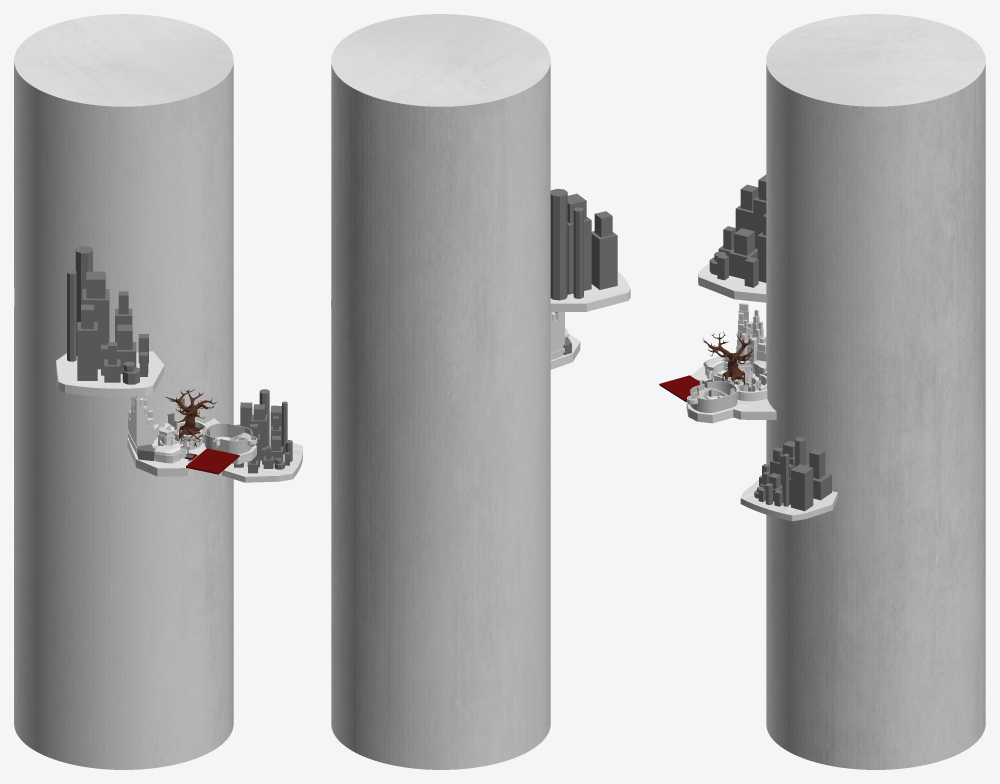
Rendered from NEW Greybox Export.fbx.
The picture shows the model from 3 angles, left to right: view 1: azimuth 30°, elevation 25°; view 2: azimuth 150°, elevation 25°; view 3: azimuth 270°, elevation 25°; orthographic projection.
Parts seen in each view (by area): view 1: Megastructure, UpperCity, LowerCity, CityPlatform_1, Cathedral_Form, NORTH_LOW_BUILDING_001, Tree, Death_Floor; view 2: Megastructure, UpperCity, NORTH_LOW_BUILDING_001; view 3: Megastructure, UpperCity, LowerCity, CityPlatform_1, NORTH_LOW_BUILDING_001, Cathedral_Form, Tree, Death_Floor.
Part boxes in pixels (x1,y1,x2,y2): Megastructure: (14,14,302,769); UpperCity: (67,246,148,384); LowerCity: (234,389,292,473); CityPlatform_1: (127,418,256,476); Cathedral_Form: (202,423,255,454); NORTH_LOW_BUILDING_001: (128,396,154,454); Tree: (166,389,216,446); Death_Floor: (186,448,239,474); Megastructure: (331,14,630,769); UpperCity: (550,188,617,300); NORTH_LOW_BUILDING_001: (550,312,564,360); Megastructure: (698,14,985,769); UpperCity: (709,174,766,287); LowerCity: (754,437,831,511); CityPlatform_1: (686,366,776,423); NORTH_LOW_BUILDING_001: (736,303,766,370); Cathedral_Form: (688,381,738,412); Tree: (702,331,753,385); Death_Floor: (659,375,699,401).
Size of what is drawn, in the model's own units: 41564 by 100000 by 44602.
